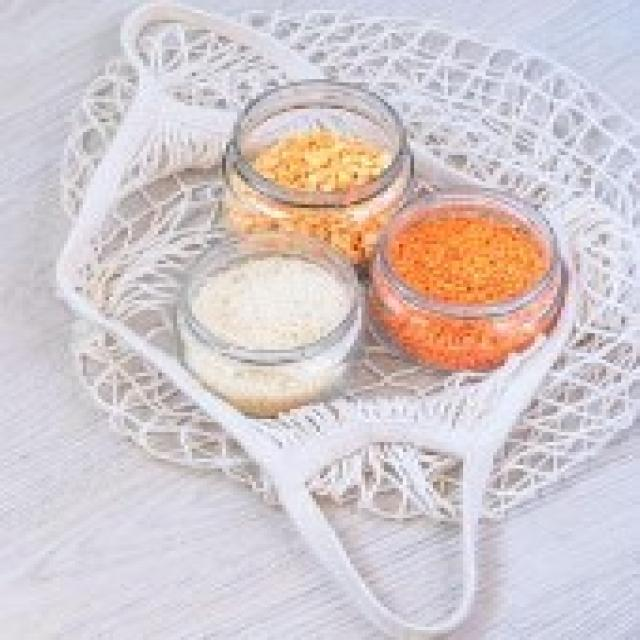electronic: (177, 78, 565, 425)
